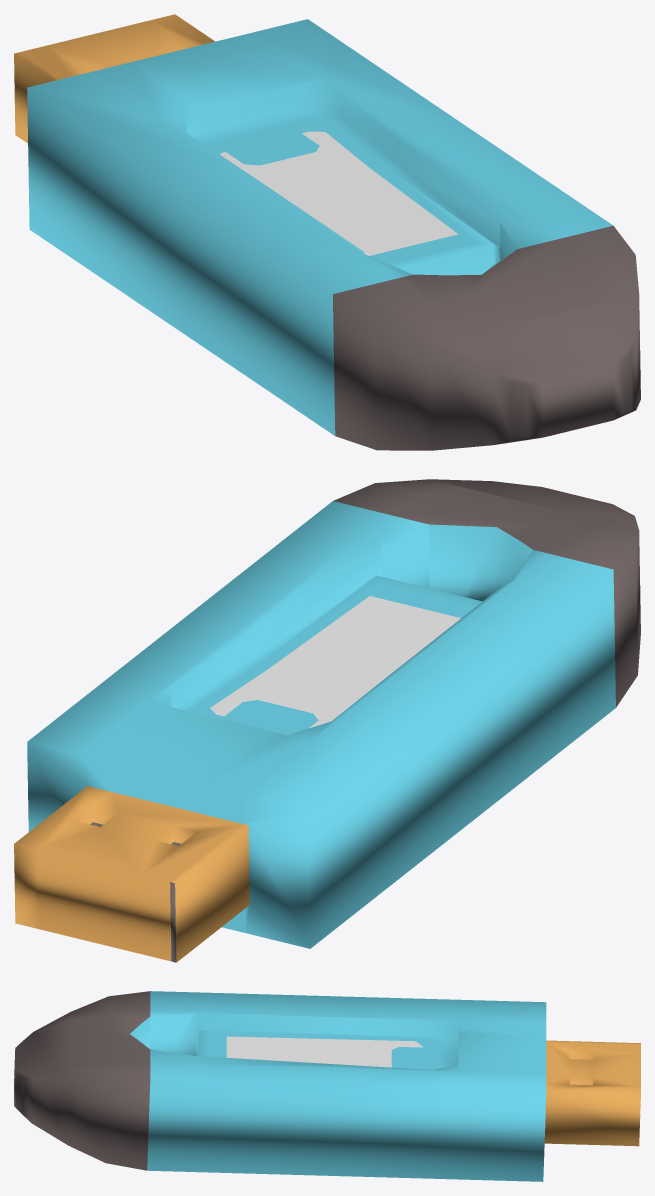
Rendered from usb.glb.
3 renders of one model, top to bottom at view 1: azimuth 30°, elevation 25°; view 2: azimuth 150°, elevation 25°; view 3: azimuth 270°, elevation 25°, orthographic. The views are drawn at different scales.
Parts seen in each view (by area): view 1: Cube.008; view 2: Cube.008; view 3: Cube.008.
Part boxes in pixels (x1,y1,x2,y2): Cube.008: (14, 14, 640, 450); Cube.008: (14, 479, 640, 962); Cube.008: (14, 991, 640, 1181).
Bounding box in the file's own units: 1.27 × 0.6833 × 3.81.
